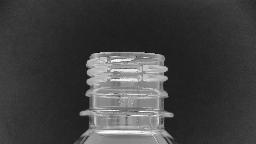No Cap: (74, 48, 178, 122)
